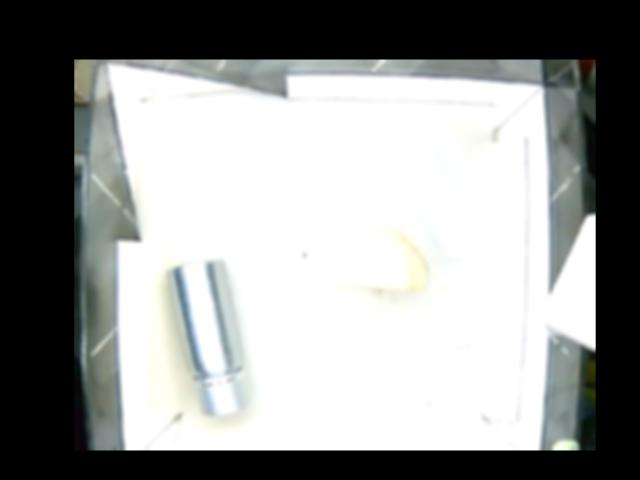Bottle: (390, 144, 509, 281), (166, 259, 245, 423)
Mooli: (324, 228, 430, 288)
